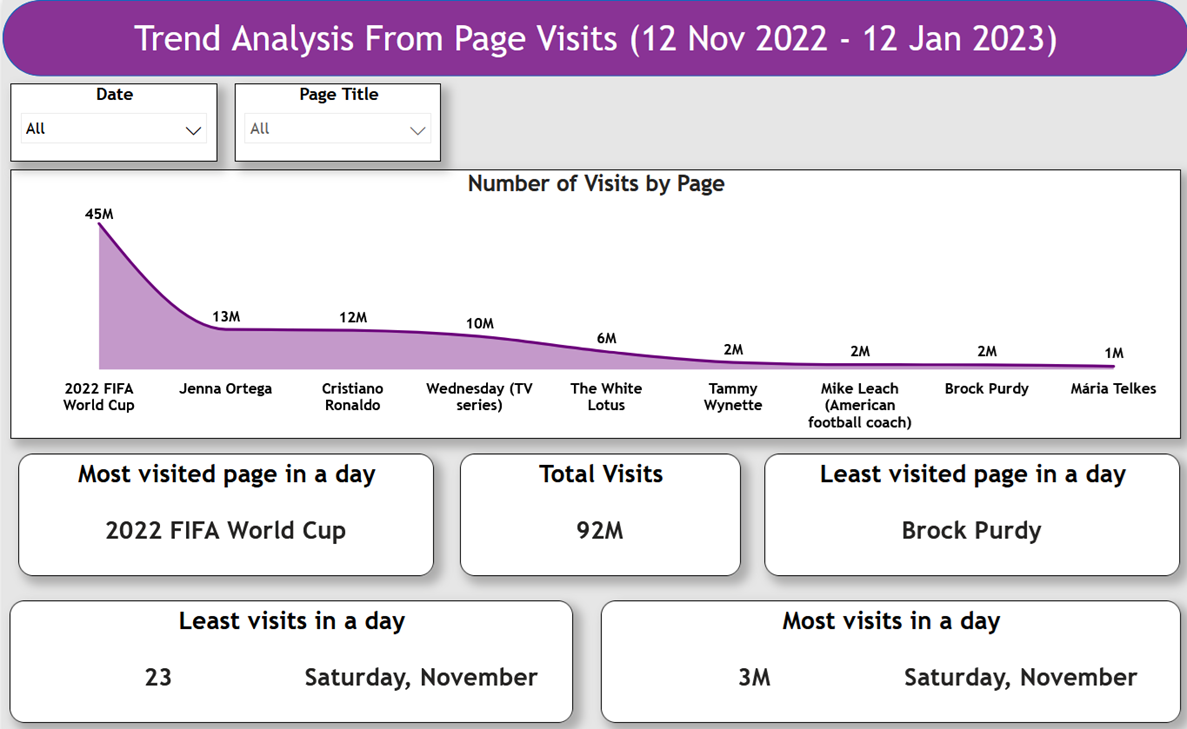

The page's visual inventory and layout, read from the dashboard file:
{"tool":"powerbi","page":{"name":"Page 1","canvas":[1280,800],"ordinal":0},"visuals":[{"type":"areaChart","title":"Number of Visits by Page","fields":{"Category":["Pageviews.Page_Title"],"Y":["Sum(Pageviews.Number_of_Visits)"]},"box":[8.4,182.5,1262.1,291.1],"z":0},{"type":"shape","box":[0,0,1280,82.3],"z":1000},{"type":"slicer","title":"Date","fields":{"Values":["Pageviews.Date"]},"box":[8.3,89.3,223.1,84.7],"z":2000},{"type":"slicer","title":"Page Title","fields":{"Values":["Pageviews.Page_Title"]},"box":[250.5,89.3,223.1,84.7],"z":3000},{"type":"cardVisual","title":"Total Visits","fields":{"Data":["Sum(Pageviews.Number_of_Visits)"]},"box":[493.3,488.8,302.7,132.3],"z":4000},{"type":"cardVisual","title":"Most visited page in a day","fields":{"Data":["Measure Table.Most Visited Page"]},"box":[16.8,488.8,448.5,132.3],"z":5000},{"type":"cardVisual","title":"Most visits in a day","fields":{"Data":["Measure Table.Most Visited","Min(Pageviews.Date)"]},"box":[644.7,648,625.6,132.3],"z":6000},{"type":"cardVisual","title":"Least visited page in a day","fields":{"Data":["Measure Table.Least Visited Page"]},"box":[821.8,488.8,448.5,132.3],"z":7000},{"type":"cardVisual","title":"Least visits in a day","fields":{"Data":["Measure Table.Least Visited","Min(Pageviews.Date)"]},"box":[7.8,648,607.7,132.3],"z":8000}]}

Visuals, with their boxes in screenshot pixels (x1, y1, x2, y2), scaled from the page's 1280x800 canvas onto the 1187x729 screenshot:
"Number of Visits by Page" areaChart: x1=8 y1=166 x2=1178 y2=432
shape: x1=0 y1=0 x2=1186 y2=75
"Date" slicer: x1=8 y1=81 x2=215 y2=159
"Page Title" slicer: x1=232 y1=81 x2=439 y2=159
"Total Visits" cardVisual: x1=457 y1=445 x2=738 y2=566
"Most visited page in a day" cardVisual: x1=16 y1=445 x2=431 y2=566
"Most visits in a day" cardVisual: x1=598 y1=590 x2=1178 y2=711
"Least visited page in a day" cardVisual: x1=762 y1=445 x2=1178 y2=566
"Least visits in a day" cardVisual: x1=7 y1=590 x2=571 y2=711
